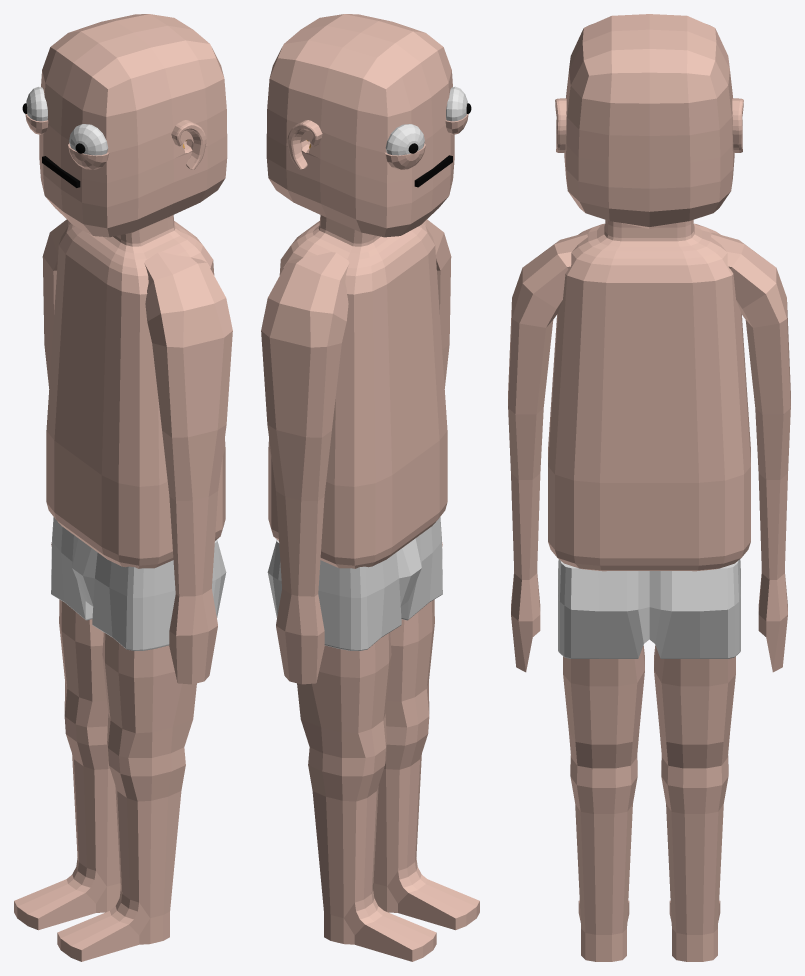
File: human.fbx
3 renders of one model, left to right at view 1: azimuth 30°, elevation 25°; view 2: azimuth 150°, elevation 25°; view 3: azimuth 270°, elevation 25°, orthographic. The views are drawn at different scales.
Parts seen in each view (by area): view 1: upper bod, feet, head, arms, underwear, eyes, ear lobe outer, eye lids; view 2: upper bod, feet, head, arms, underwear, eyes, ear lobe outer, eye lids; view 3: upper bod, feet, head, arms, underwear, ear lobe outer.
Part boxes in pixels (x1,y1,x2,y2): upper bod: (46, 215, 225, 568); feet: (14, 599, 196, 961); head: (39, 14, 227, 237); arms: (42, 219, 232, 684); underwear: (51, 517, 226, 651); eyes: (26, 86, 108, 155); ear lobe outer: (171, 120, 206, 169); eye lids: (25, 114, 109, 169); upper bod: (268, 215, 447, 568); feet: (297, 599, 479, 961); head: (266, 14, 454, 237); arms: (261, 219, 451, 684); underwear: (267, 517, 442, 651); eyes: (385, 86, 467, 155); ear lobe outer: (287, 120, 322, 169); eye lids: (384, 114, 468, 169); upper bod: (548, 220, 750, 571); feet: (563, 645, 735, 961); head: (564, 14, 734, 228); arms: (508, 232, 790, 672); underwear: (558, 559, 740, 658); ear lobe outer: (555, 98, 743, 152).
Size of the model in its own units: 5452 by 28560 by 7895.
